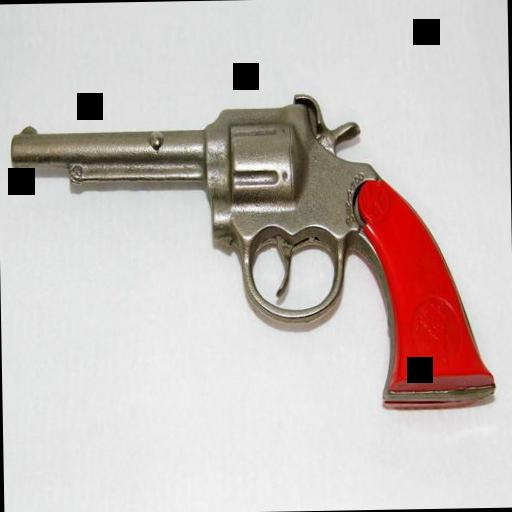Handgun: (7, 86, 495, 424)
